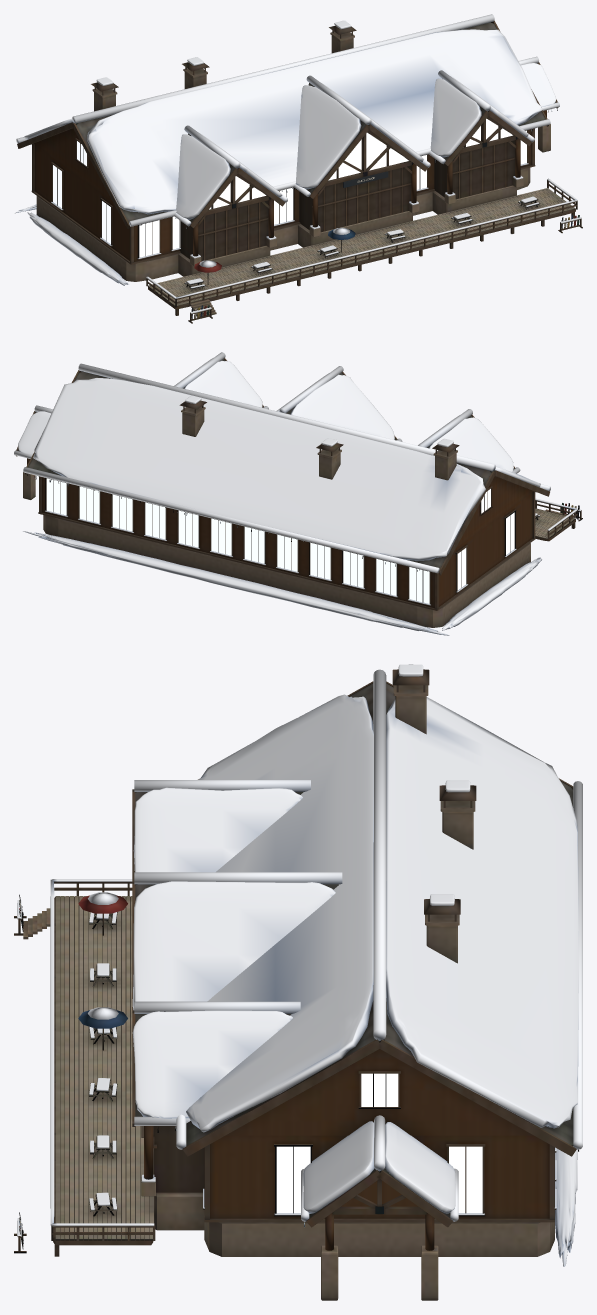
The model's file is earls_lodge.glb.
3 views of the same model, one above another, from view 1: azimuth 30°, elevation 25°; view 2: azimuth 150°, elevation 25°; view 3: azimuth 270°, elevation 25° (orthographic). The views are drawn at different scales.
Parts seen in each view (by area): view 1: earls_lodge_snow, earls_lodge, earls_lodge_lit; view 2: earls_lodge_snow, earls_lodge, earls_lodge_lit; view 3: earls_lodge_snow, earls_lodge, earls_lodge_lit.
Part boxes in pixels (x1,y1,x2,y2): earls_lodge_snow: (15,14,581,313); earls_lodge: (17,21,582,323); earls_lodge_lit: (53,118,526,257); earls_lodge_snow: (14,352,581,635); earls_lodge: (16,358,582,627); earls_lodge_lit: (46,478,514,603); earls_lodge_snow: (17,664,582,1266); earls_lodge: (14,669,578,1300); earls_lodge_lit: (276,1073,482,1213).
Size of the model in its own units: 61.29 by 19.4 by 36.33.
Materials: 4 (1 with a texture image).
